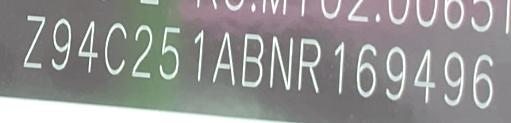letter: (239, 30, 266, 89), (296, 34, 323, 93), (267, 34, 294, 91), (20, 11, 46, 70), (212, 29, 238, 86), (157, 23, 182, 82), (412, 45, 437, 104), (470, 52, 495, 109), (383, 44, 407, 101), (442, 49, 466, 106), (130, 22, 153, 81), (75, 19, 99, 74), (104, 21, 128, 76), (49, 16, 72, 73), (355, 41, 378, 98), (190, 26, 206, 83), (332, 38, 346, 95)
